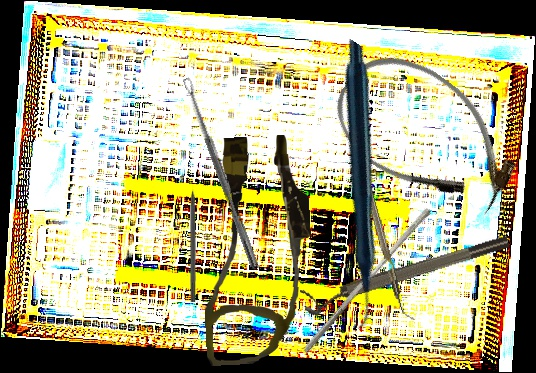Cannula: (317, 34, 536, 235), (195, 133, 318, 367)
Chopper: (348, 128, 417, 324)
Fixation Ring: (299, 231, 514, 319)
Handpiece: (217, 37, 495, 333)
Hook Surgical: (190, 176, 197, 302)
Pusher: (301, 202, 433, 360)
Surgical Spoon: (182, 76, 261, 271)
